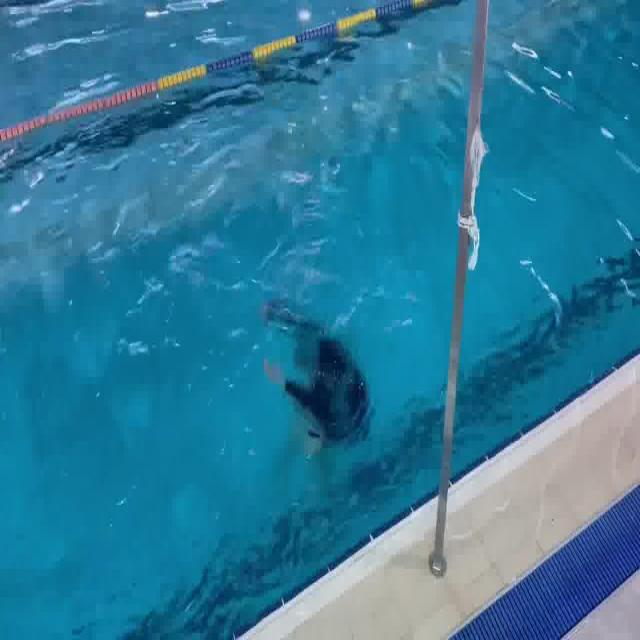Drowning: (236, 276, 392, 470)
